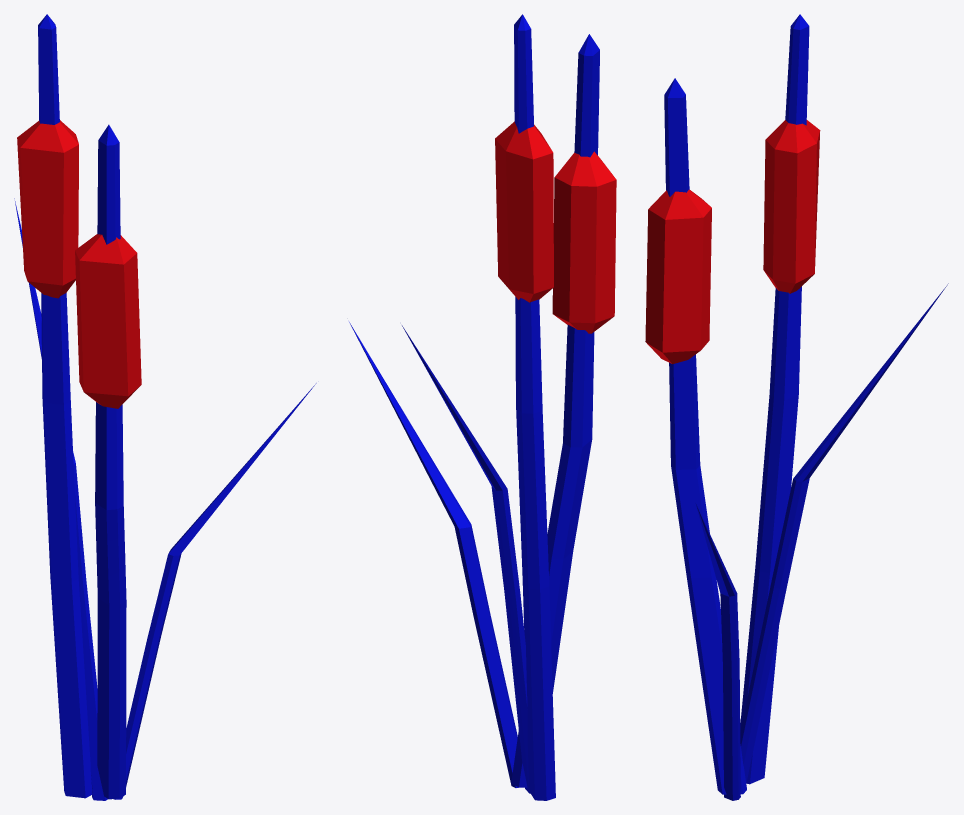
The model's file is SM_Reed1.fbx.
The picture shows the model from 3 angles, left to right: view 1: azimuth 30°, elevation 25°; view 2: azimuth 150°, elevation 25°; view 3: azimuth 270°, elevation 25°; orthographic projection. The views are drawn at different scales.
Parts seen in each view (by area): view 1: SM_Reed1; view 2: SM_Reed1; view 3: SM_Reed1.
Boxes of the visible parts, left/top/right/bottom form: SM_Reed1: left=14, top=14, right=316, bottom=800; SM_Reed1: left=349, top=14, right=616, bottom=800; SM_Reed1: left=645, top=14, right=948, bottom=800.
Bounding box in the file's own units: 31.56 × 93.37 × 33.6.
